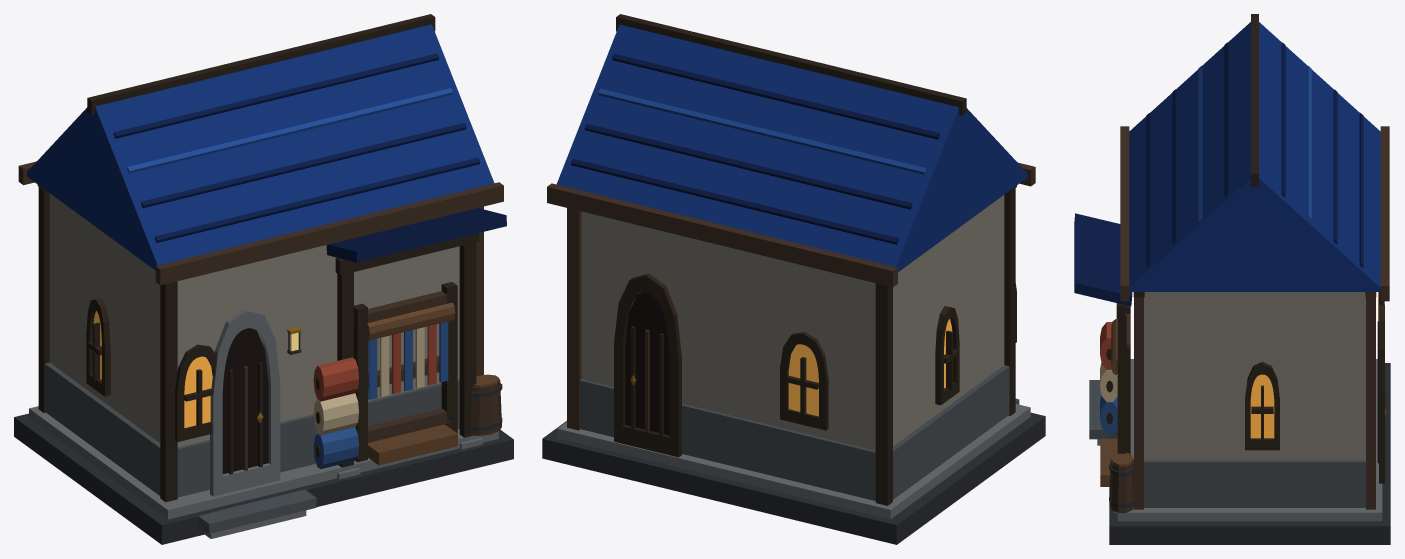
The model's file is eastbrook_weaving_workshop.glb.
3 renders of one model, left to right at view 1: azimuth 30°, elevation 25°; view 2: azimuth 150°, elevation 25°; view 3: azimuth 270°, elevation 25°, orthographic. The views are drawn at different scales.
Parts seen in each view (by area): view 1: EastbrookWeavingWorkshop_TownOpaque, EastbrookWeavingWorkshop_TownEmissive; view 2: EastbrookWeavingWorkshop_TownOpaque, EastbrookWeavingWorkshop_TownEmissive; view 3: EastbrookWeavingWorkshop_TownOpaque, EastbrookWeavingWorkshop_TownEmissive.
Boxes of the visible parts, x1,y1,x2,y2 form: EastbrookWeavingWorkshop_TownOpaque: [14, 14, 513, 544]; EastbrookWeavingWorkshop_TownEmissive: [93, 311, 298, 427]; EastbrookWeavingWorkshop_TownOpaque: [542, 14, 1045, 544]; EastbrookWeavingWorkshop_TownEmissive: [788, 319, 952, 416]; EastbrookWeavingWorkshop_TownOpaque: [1074, 14, 1390, 544]; EastbrookWeavingWorkshop_TownEmissive: [1250, 292, 1378, 438].
Size of the model in its own units: 5.5 by 5.8 by 4.5.
